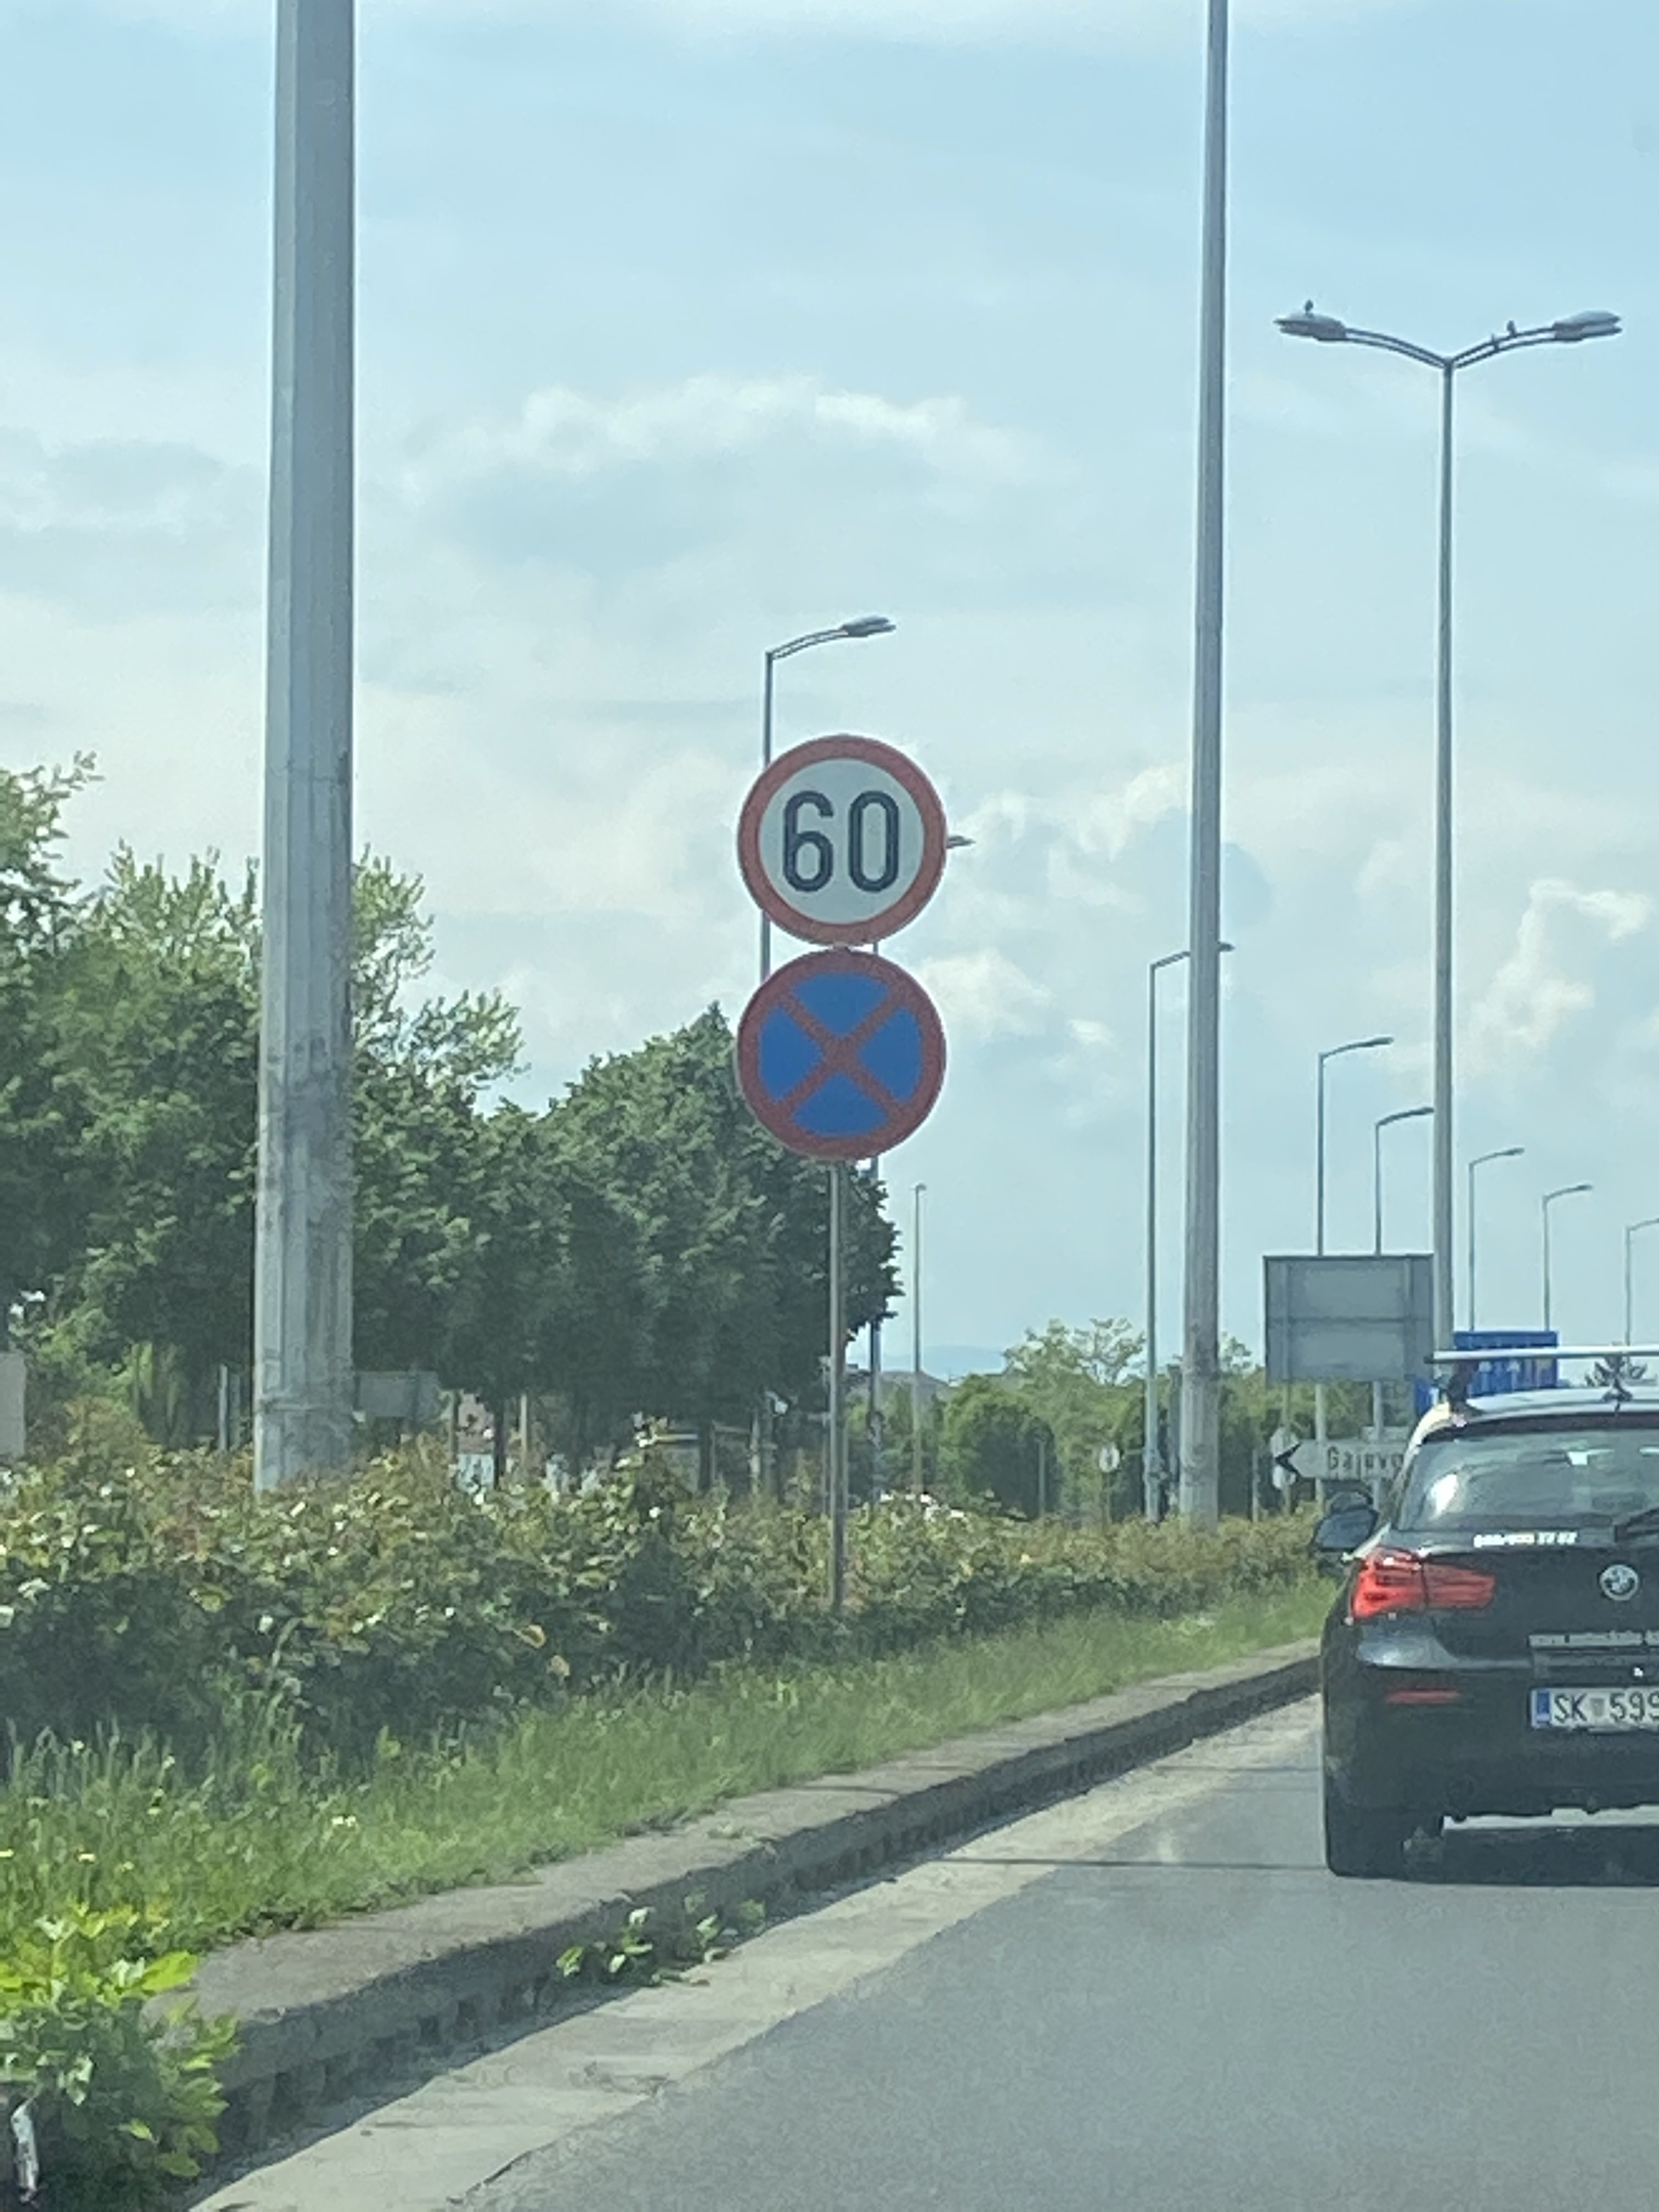Ograničenje brzine 60: (737, 733, 946, 946)
